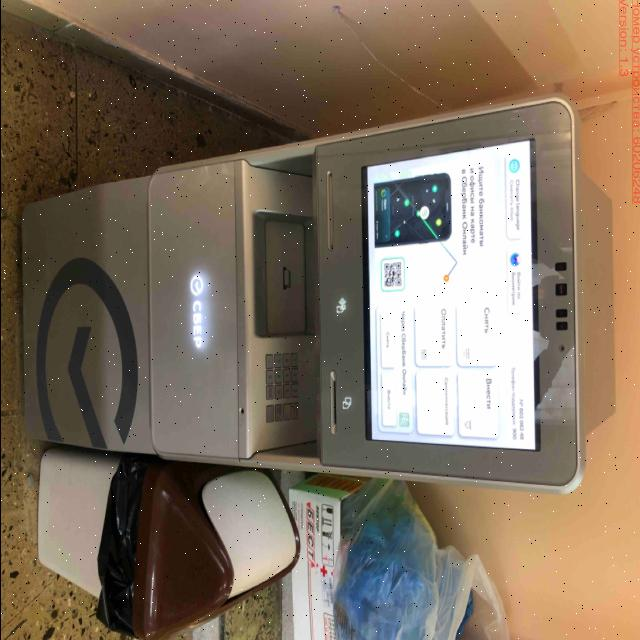bank: (18, 90, 616, 496)
